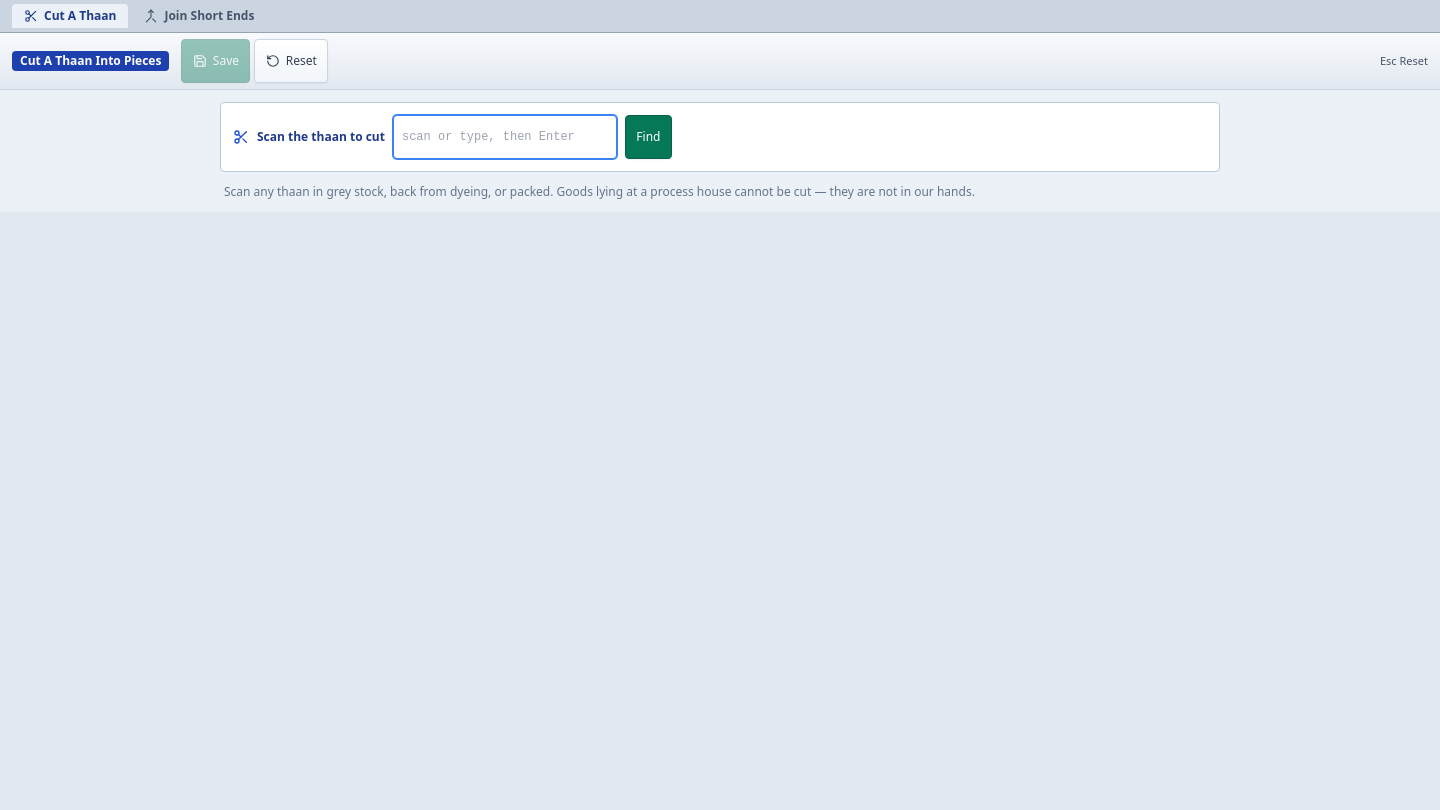
Test: cutting a thaan › a cut that does not add up cannot be saved
Type "NKT001" into the field labelled "Scan the thaan to cut".
click(505, 137); type("NKT001")  # box [393,115,617,159]
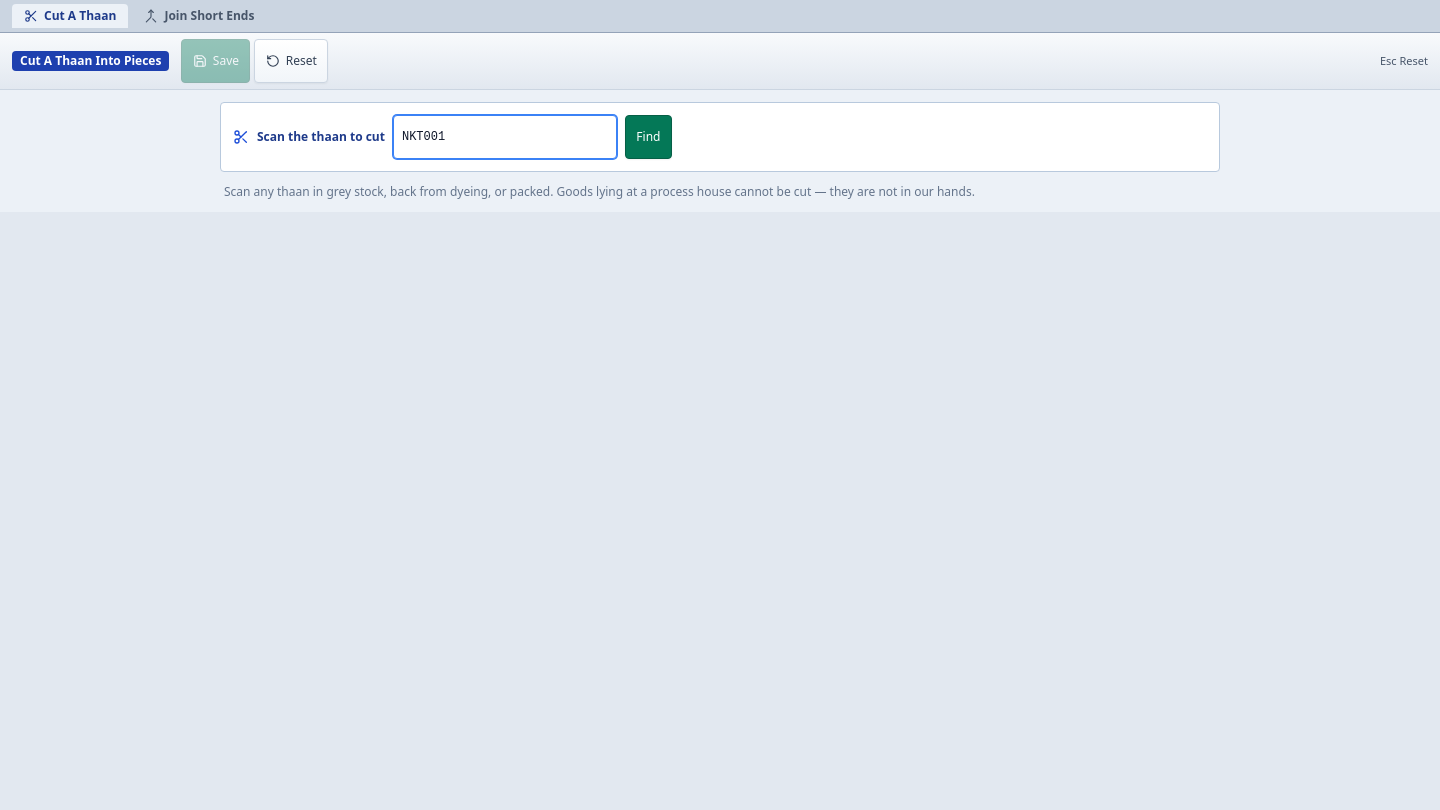
Click the button "Find".
click(648, 137)  # box [625,115,672,159]
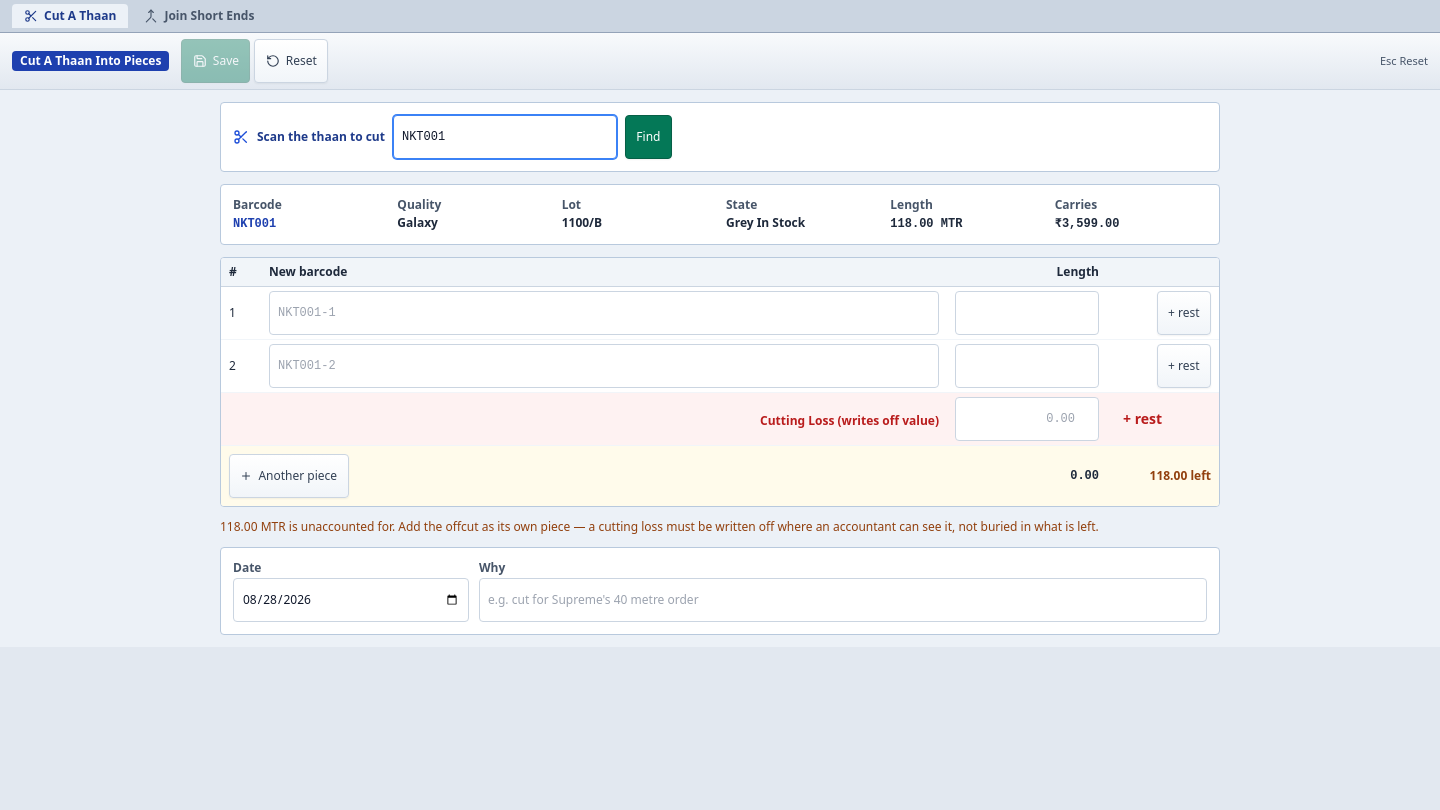
Expected: the text "NKT001" is shown, [233,217,276,231]
Type "40" into the 1st number field.
click(1027, 313); type("40")  # box [955,291,1099,335]
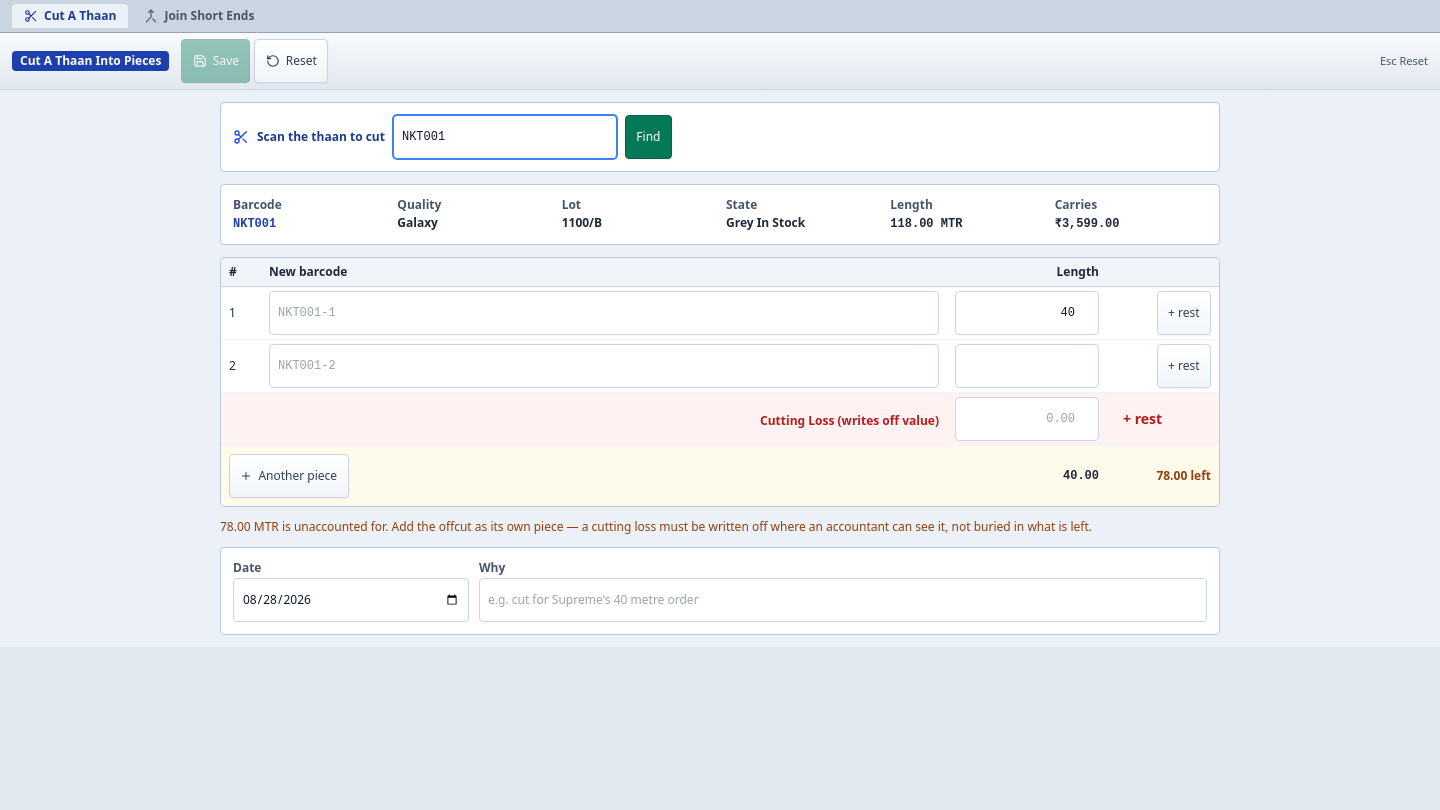
Type "40" into the 2nd number field.
click(1027, 366); type("40")  # box [955,344,1099,388]
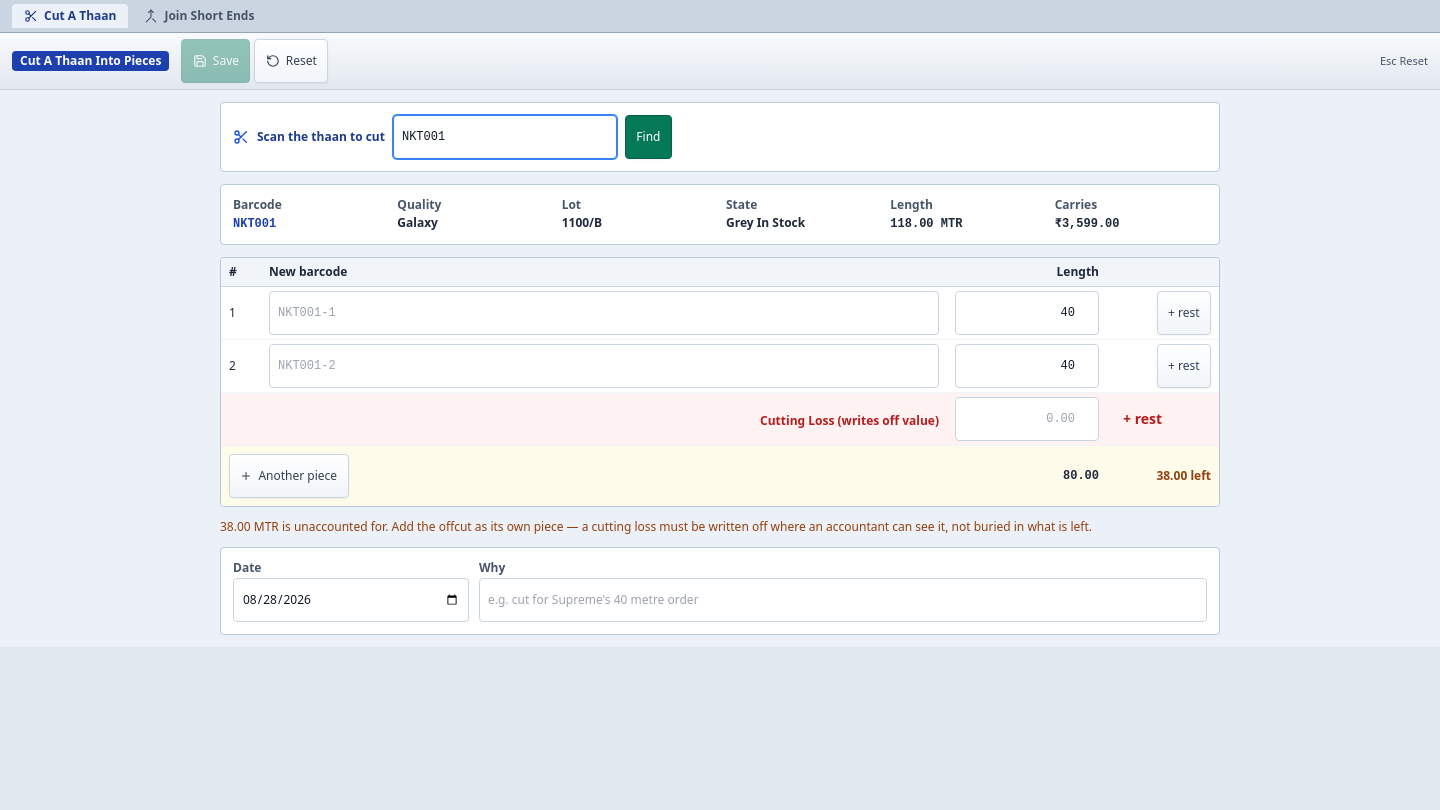
Expected: the button "Save" is disabled, [181,39,250,83]
Click the 2nd button "+ rest".
click(1184, 366)  # box [1157,344,1211,388]
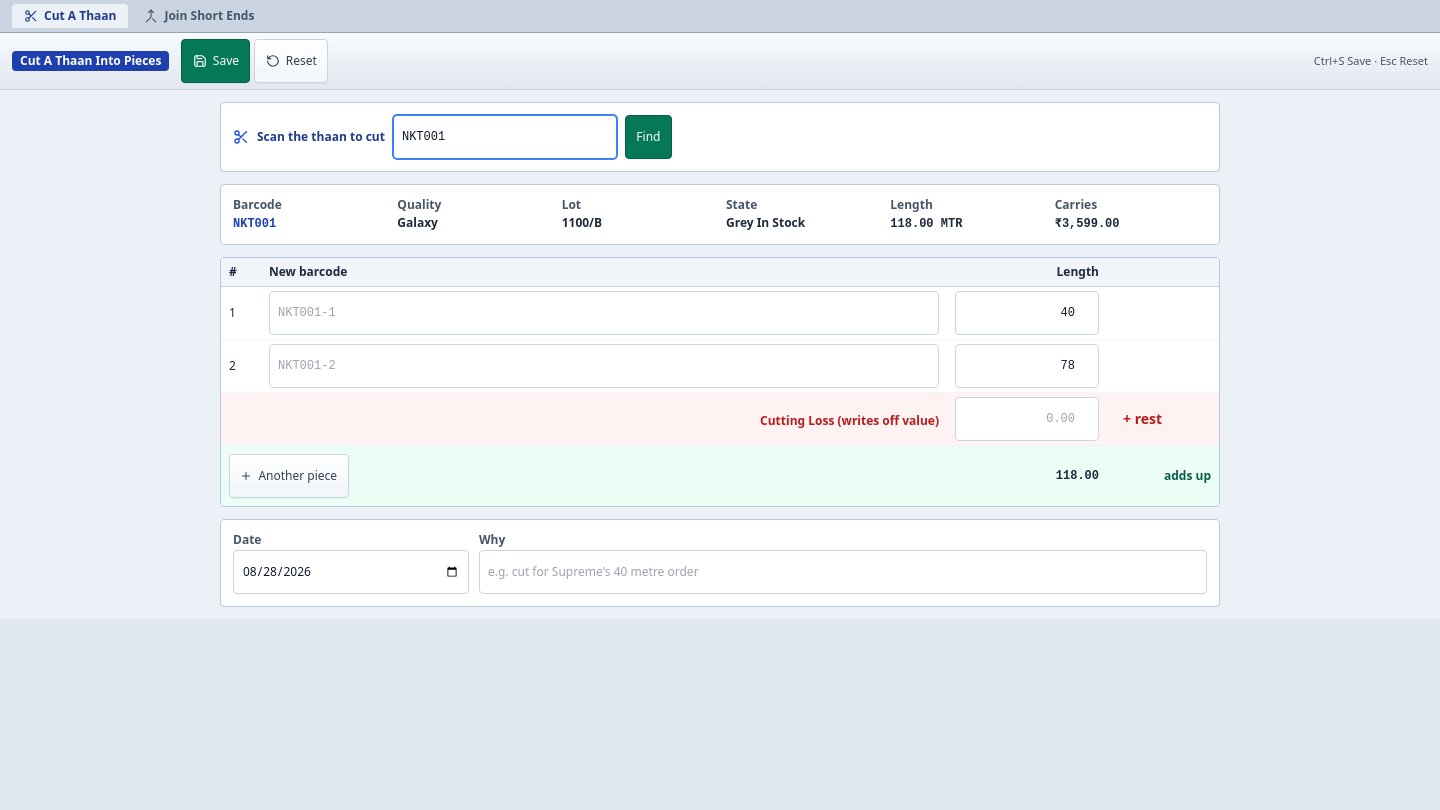
Expected: the text "adds up" is shown, [1164,467,1211,484]
Expected: the button "Save" is enabled, [181,39,250,83]
